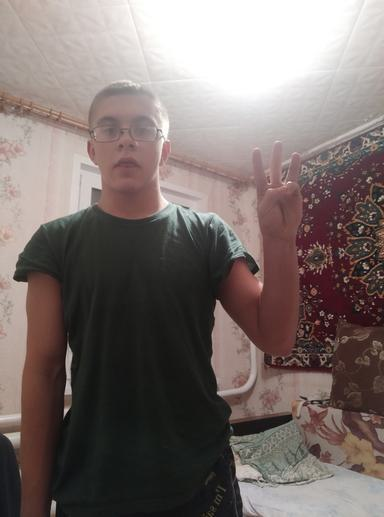three: (249, 140, 307, 245)
